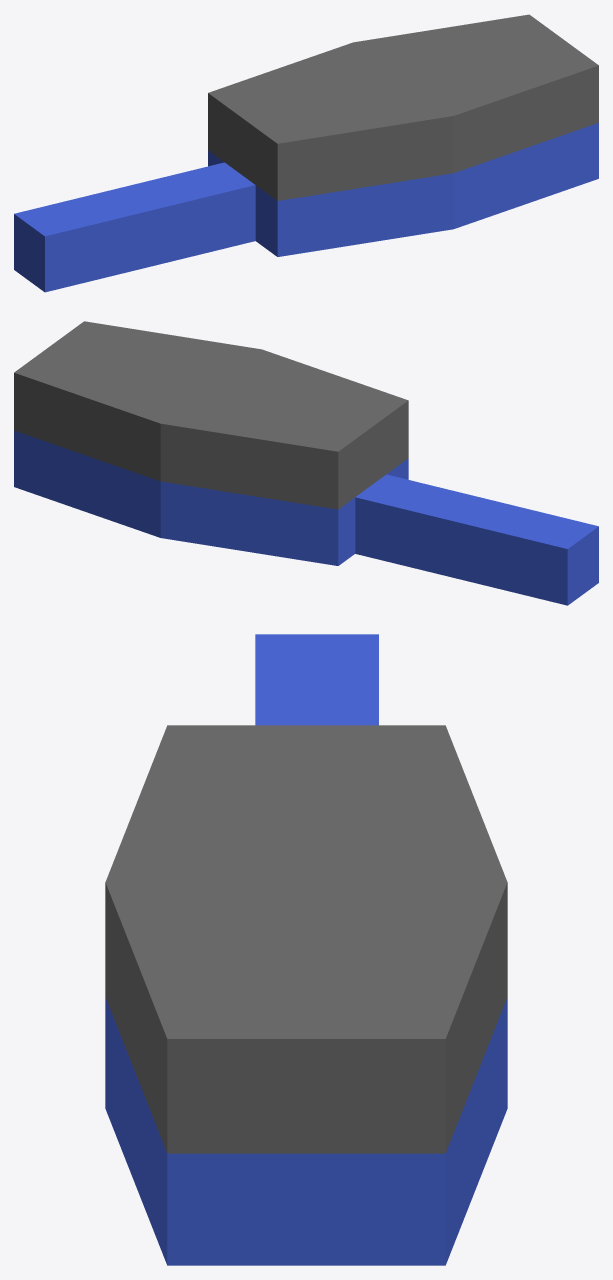
File: Hairbrush.glb
The picture shows the model from 3 angles, top to bottom: view 1: azimuth 30°, elevation 25°; view 2: azimuth 150°, elevation 25°; view 3: azimuth 270°, elevation 25°; orthographic projection. The views are drawn at different scales.
Visible parts, largest first — view 1: Cube; view 2: Cube; view 3: Cube.
Boxes of the visible parts, x1,y1,x2,y2 form: Cube: [14, 14, 598, 292]; Cube: [14, 321, 598, 605]; Cube: [105, 634, 507, 1265].
Size of the model in its own units: 0.3973 by 0.0809 by 0.13.
